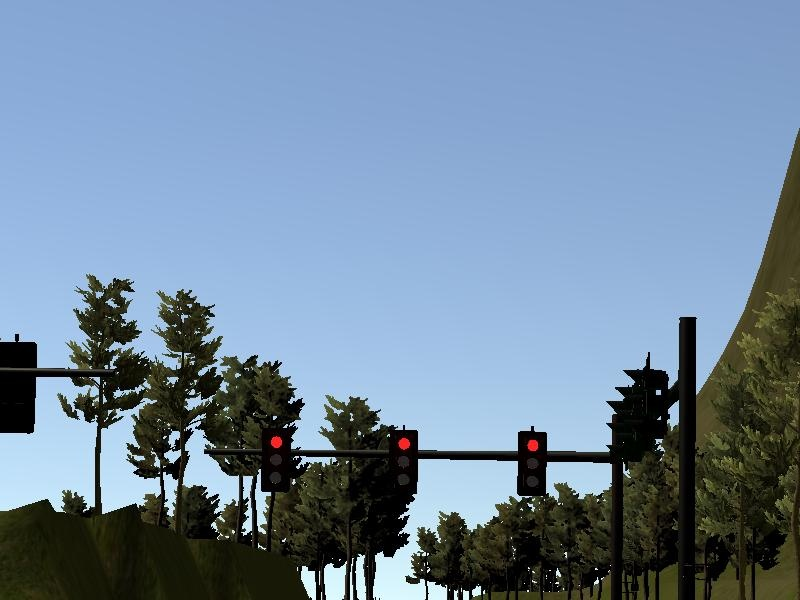red: (515, 428, 550, 498), (388, 427, 420, 499), (259, 424, 292, 493)
